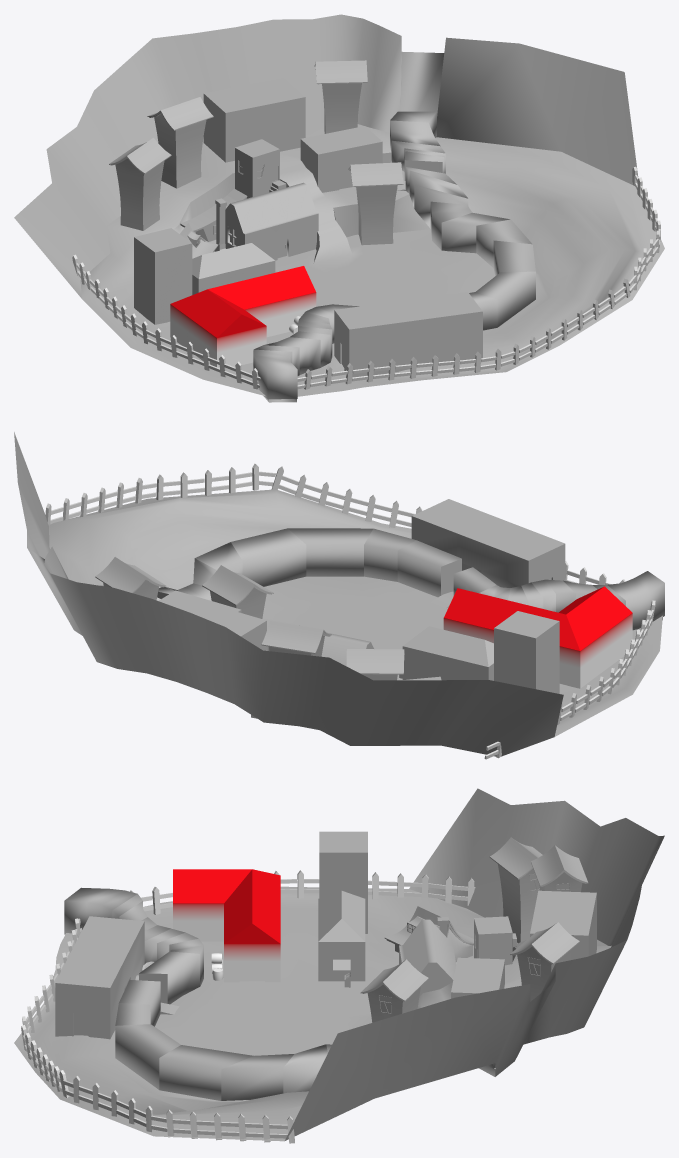
Rendered from River_Col.fbx.
3 renders of one model, top to bottom at view 1: azimuth 30°, elevation 25°; view 2: azimuth 150°, elevation 25°; view 3: azimuth 270°, elevation 25°, orthographic. The views are drawn at different scales.
Parts seen in each view (by area): view 1: polySurface1, polySurface2.001, pCube7, pCube6, 立方体, pCube3, pCube1, pCube4, pCube2, h11, h10, h8 (+3 smaller); view 2: polySurface1, polySurface2.001, pCube6, pCube7, 立方体, pCube4, pCube5, h8, pCube3, h10, h11, h12 (+1 smaller); view 3: polySurface1, polySurface2.001, pCube6, 立方体, pCube7, pCube5, pCube4, h11, pCube3, pCube1, h12, h8 (+4 smaller).
Boxes of the visible parts, left/top/right/bottom form: polySurface1: left=14, top=14, right=664, bottom=402; polySurface2.001: left=253, top=111, right=535, bottom=399; pCube7: left=334, top=292, right=482, bottom=377; pCube6: left=170, top=266, right=316, bottom=368; 立方体: left=72, top=166, right=660, bottom=389; pCube3: left=203, top=77, right=305, bottom=162; pCube1: left=214, top=182, right=318, bottom=260; pCube4: left=134, top=228, right=192, bottom=324; pCube2: left=300, top=126, right=382, bottom=192; h11: left=109, top=138, right=171, bottom=230; h10: left=147, top=97, right=213, bottom=188; h8: left=348, top=162, right=403, bottom=245; polySurface1: left=14, top=432, right=662, bottom=756; polySurface2.001: left=101, top=528, right=664, bottom=630; pCube6: left=443, top=586, right=632, bottom=688; pCube7: left=411, top=499, right=565, bottom=587; 立方体: left=45, top=463, right=655, bottom=759; pCube4: left=494, top=611, right=559, bottom=693; pCube5: left=399, top=626, right=493, bottom=680; h8: left=202, top=565, right=273, bottom=618; pCube3: left=171, top=596, right=266, bottom=650; h10: left=261, top=621, right=331, bottom=656; h11: left=346, top=649, right=404, bottom=680; h12: left=95, top=557, right=166, bottom=600; polySurface1: left=14, top=788, right=664, bottom=1141; polySurface2.001: left=64, top=887, right=494, bottom=1100; pCube6: left=173, top=869, right=280, bottom=982; 立方体: left=21, top=870, right=475, bottom=1143; pCube7: left=55, top=916, right=154, bottom=1039; pCube5: left=318, top=890, right=365, bottom=987; pCube4: left=319, top=831, right=367, bottom=933; h11: left=489, top=837, right=542, bottom=943; pCube3: left=530, top=890, right=596, bottom=960; pCube1: left=399, top=916, right=456, bottom=996; h12: left=510, top=922, right=579, bottom=1001; h8: left=360, top=959, right=428, bottom=1022.
Size of the model in its own units: 2309 by 593 by 2053.
